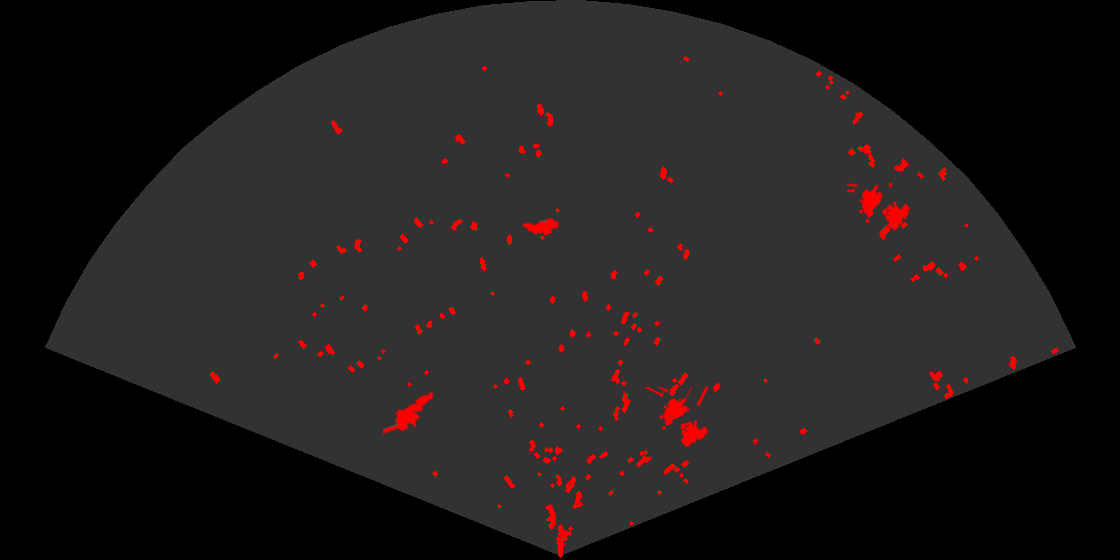AUV: (520, 216, 561, 238)
cage: (642, 387, 710, 449), (847, 183, 912, 232)
frogman: (383, 390, 436, 436)
